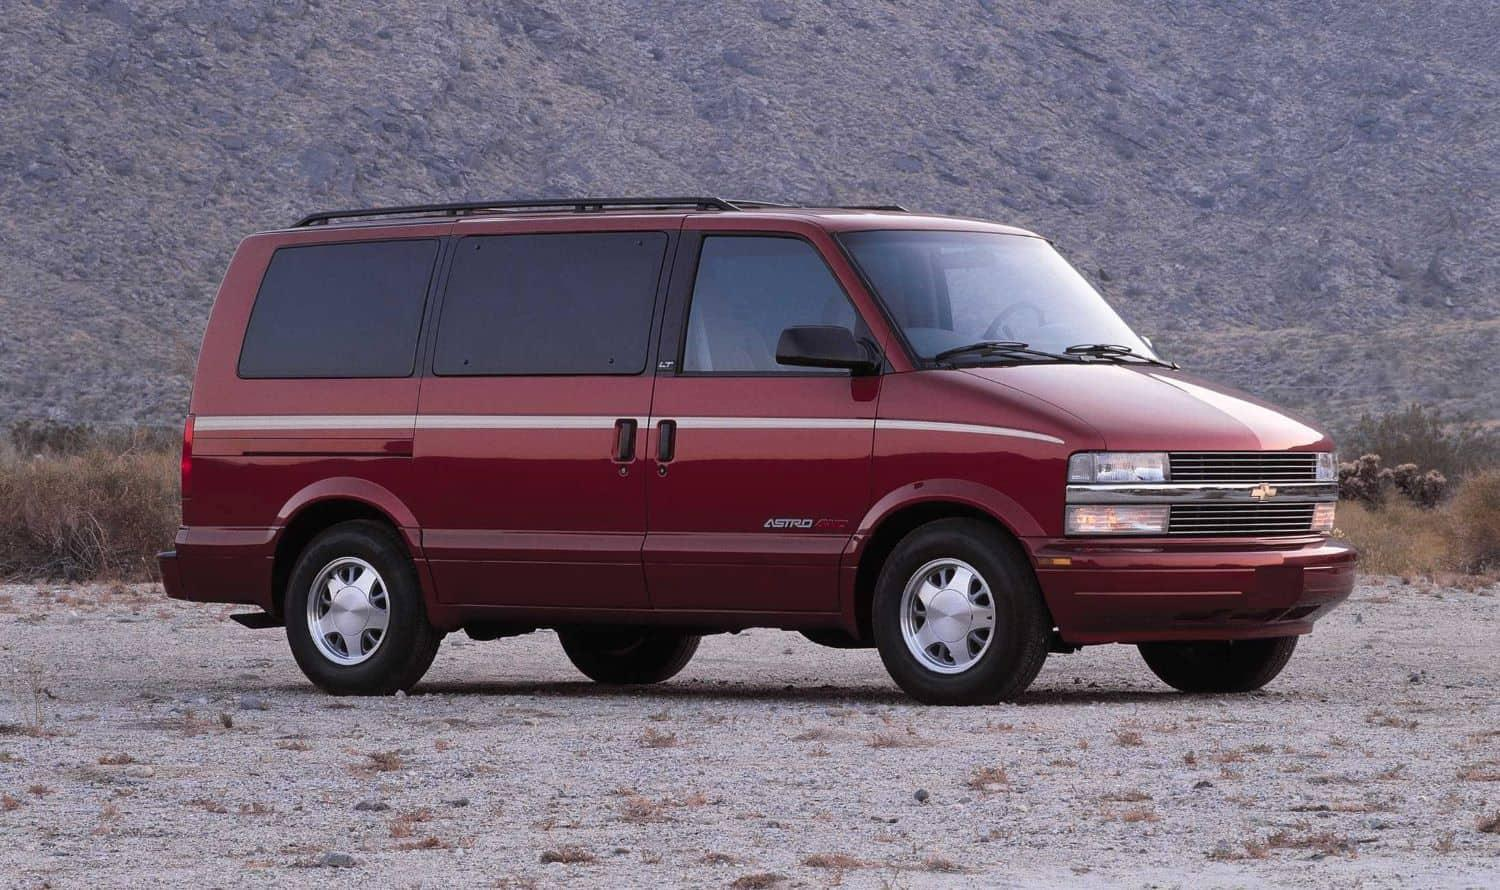van: (155, 208, 1354, 707)
